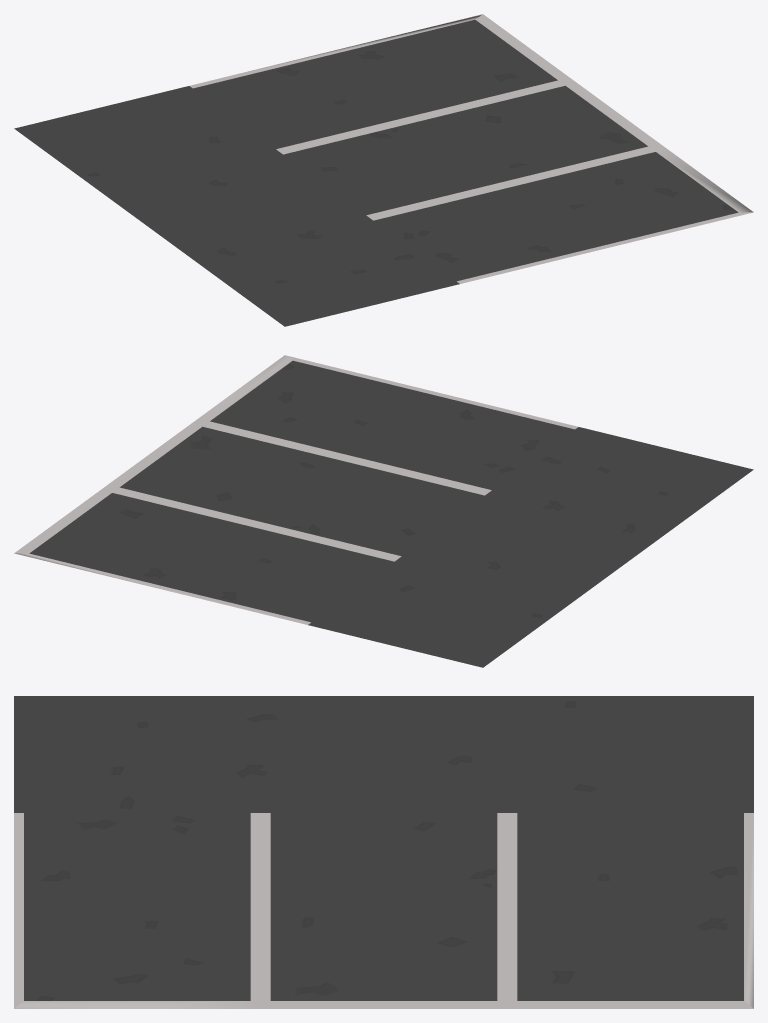
The model's file is SM_Gen_Env_Road_Parking_01.glb.
3 views of the same model, one above another, from view 1: azimuth 30°, elevation 25°; view 2: azimuth 150°, elevation 25°; view 3: azimuth 270°, elevation 25° (orthographic). The views are drawn at different scales.
Visible parts, largest first — view 1: SM_Gen_Env_Road_Parking_01; view 2: SM_Gen_Env_Road_Parking_01; view 3: SM_Gen_Env_Road_Parking_01.
Part boxes in pixels (x1,y1,x2,y2): SM_Gen_Env_Road_Parking_01: [14, 14, 753, 326]; SM_Gen_Env_Road_Parking_01: [14, 355, 753, 667]; SM_Gen_Env_Road_Parking_01: [14, 696, 753, 1008].
Bounding box in the file's own units: 10 × 7.55e-07 × 10.
Materials: 1 (1 with a texture image).
